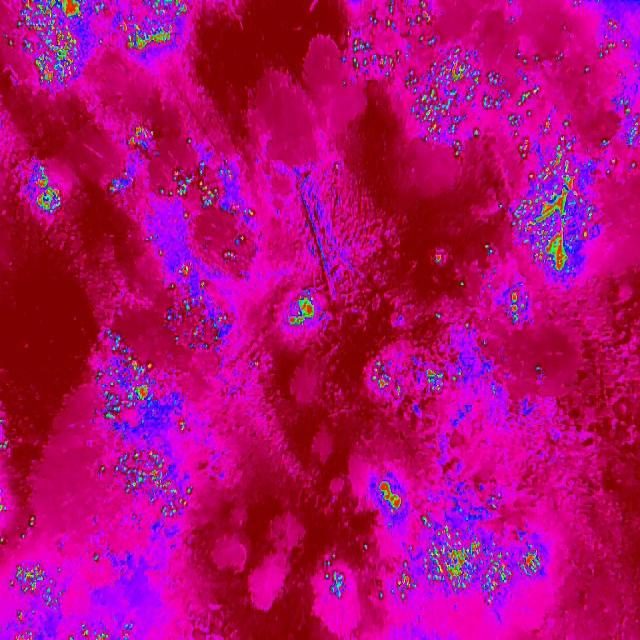fire: (500, 15, 640, 279), (315, 471, 542, 611), (338, 0, 510, 164), (82, 328, 205, 528), (3, 0, 180, 95), (107, 161, 260, 267), (0, 437, 51, 640), (45, 550, 147, 640), (158, 262, 241, 352), (362, 350, 469, 410), (25, 157, 70, 226), (282, 290, 320, 336), (494, 284, 530, 331), (120, 119, 160, 148)
